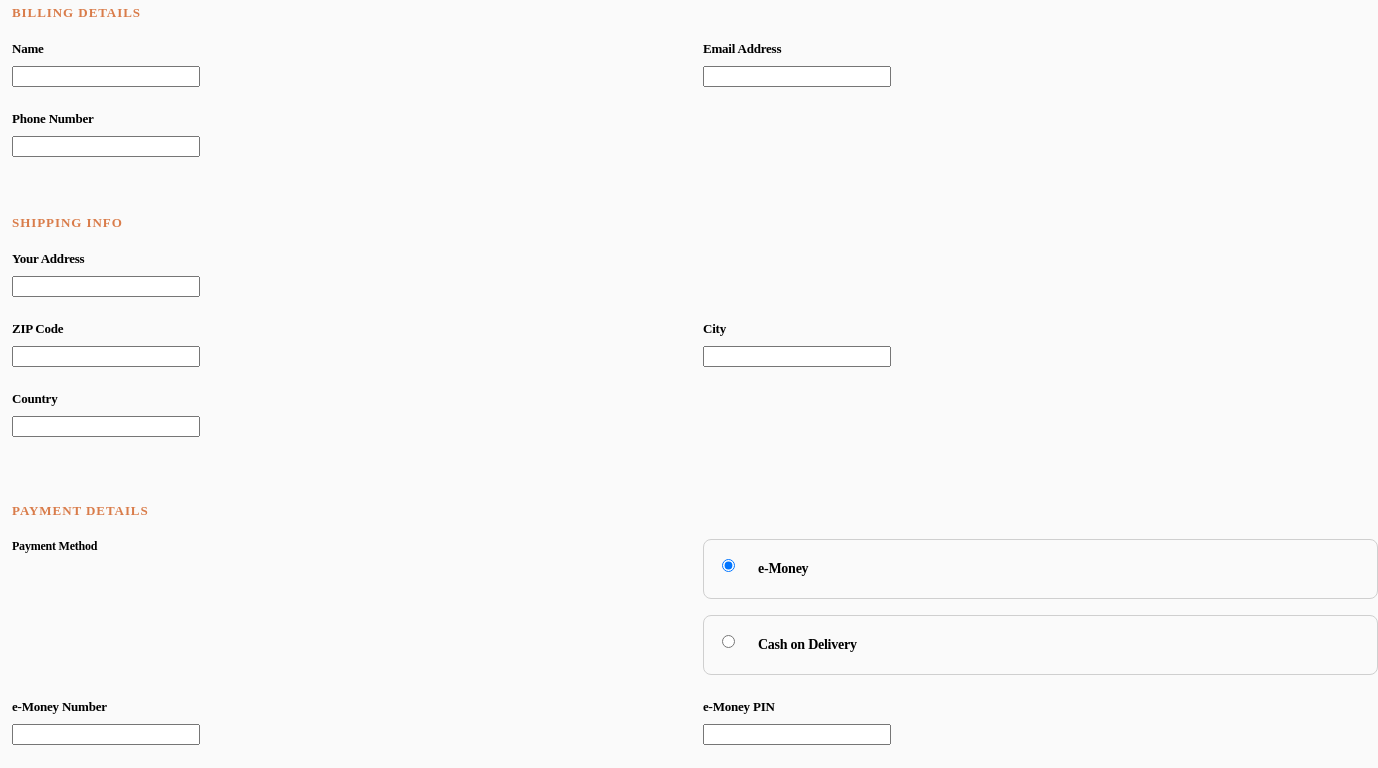
Test: PaymentDetails › Interactions › displays a required error message in e-Money Number field when it was touched and then blurred leaving it with an empty value
Step 1. Click the field labelled "e-Money Number" → coordinates (106, 734), box x1=12 y1=724 x2=200 y2=745
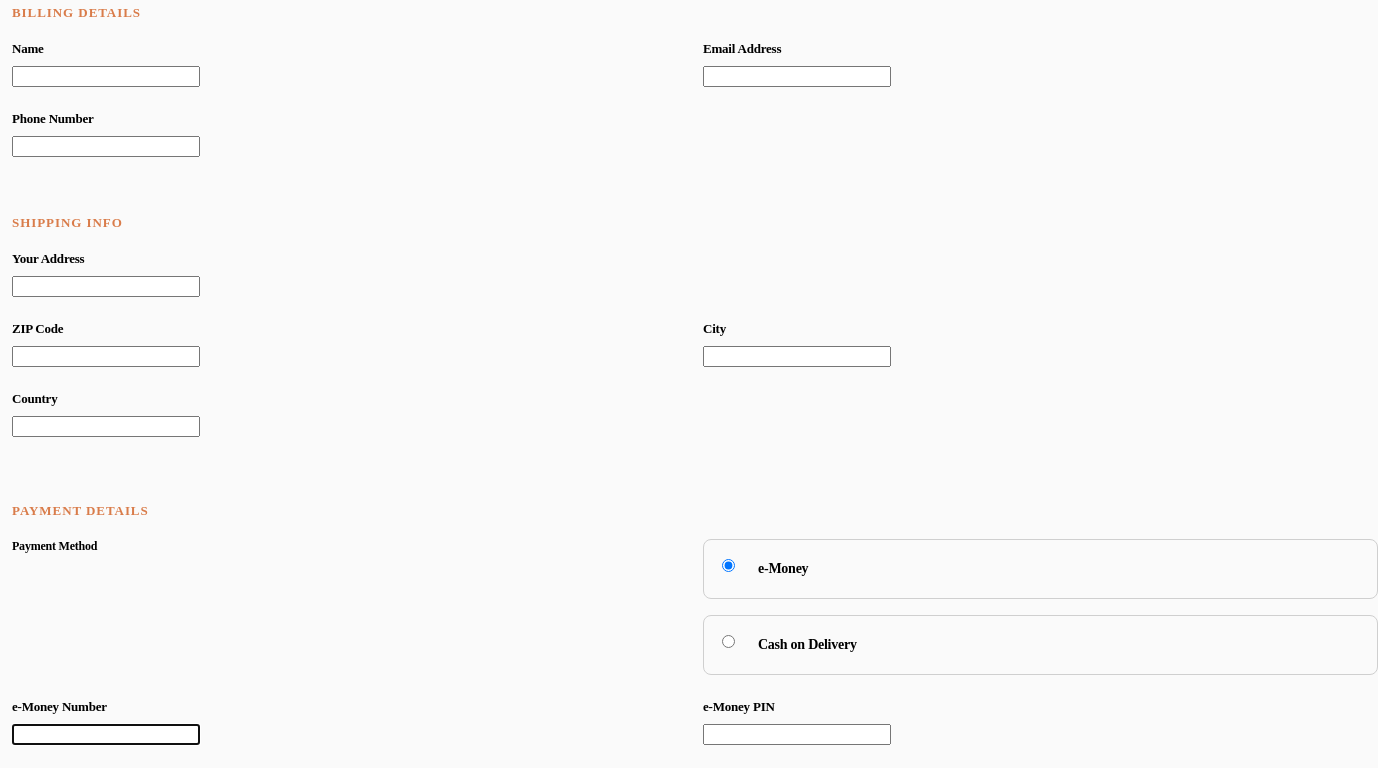
Step 2. Click the element that starts with "Billing Details" → coordinates (695, 384), box x1=12 y1=0 x2=1377 y2=767
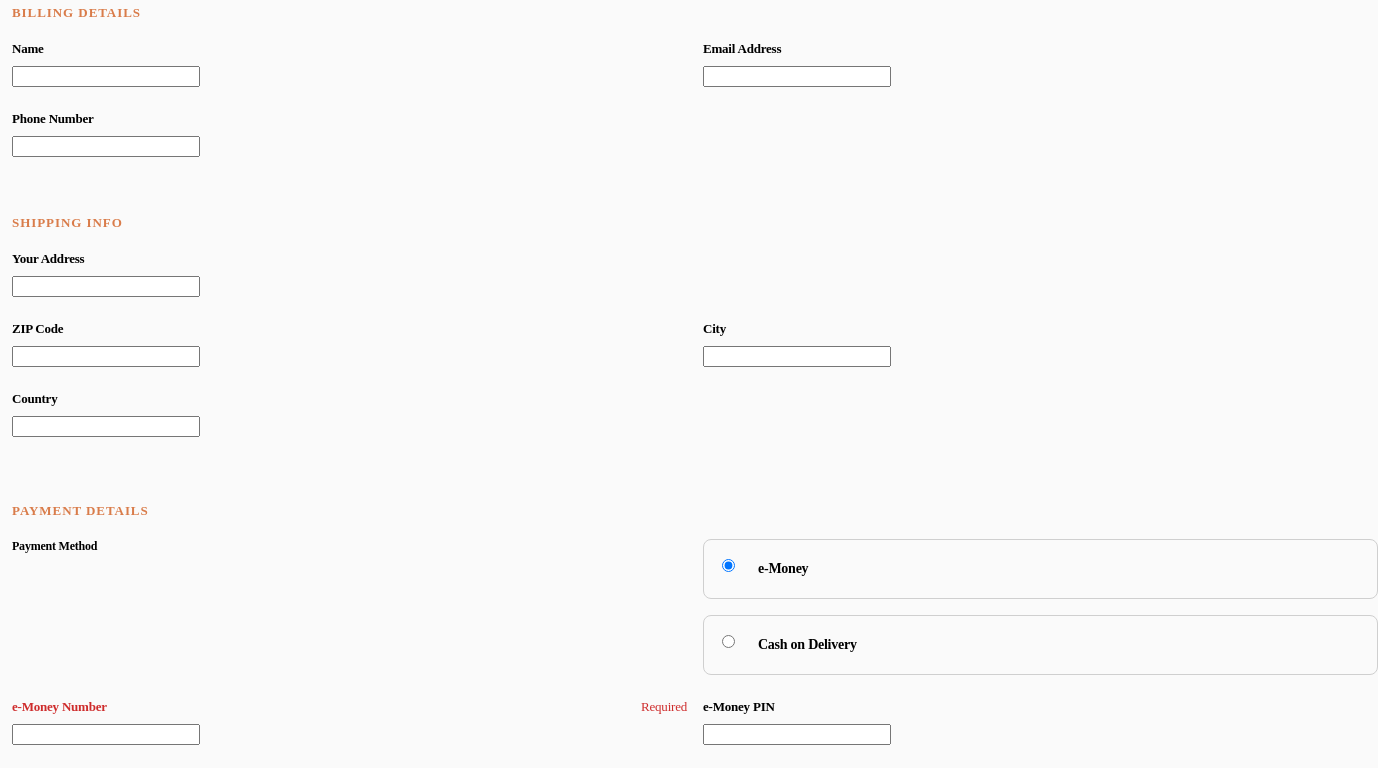
Expected: the text "Required" is shown, x1=641 y1=699 x2=687 y2=715
